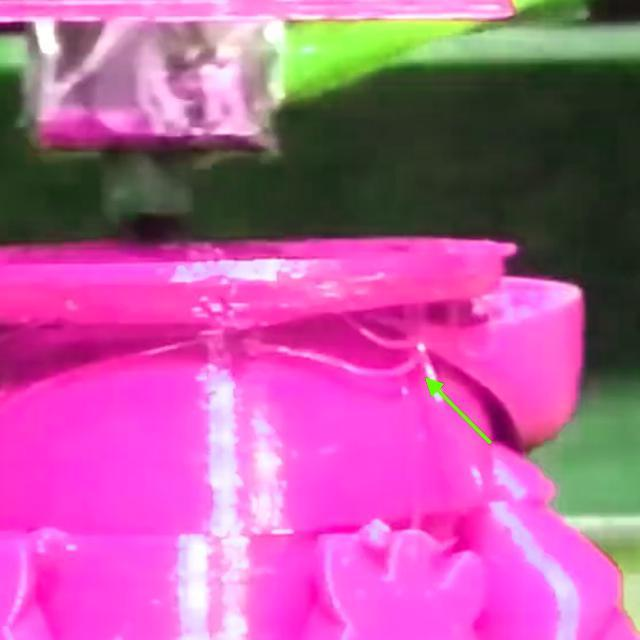Spaghetti: (220, 294, 430, 388)
